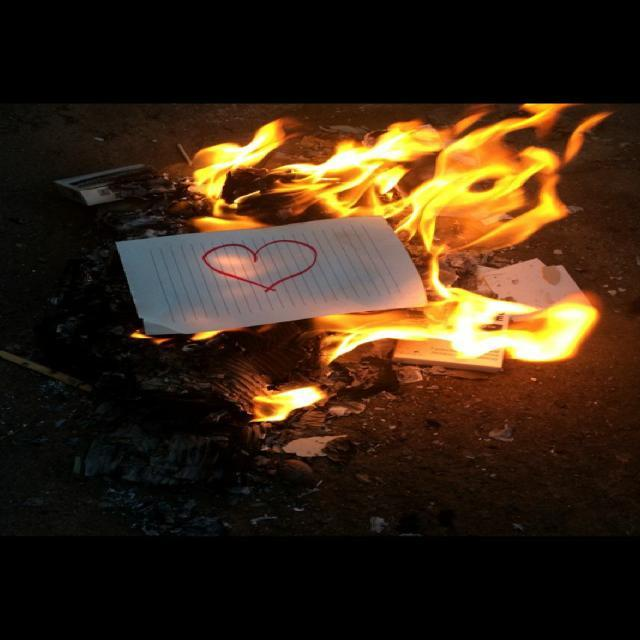Fire: (143, 105, 618, 426)
